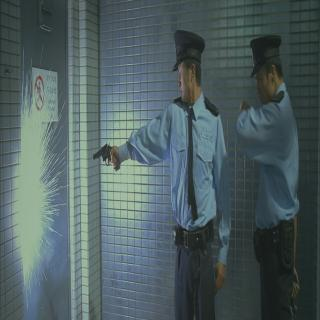gun: (92, 141, 121, 174)
